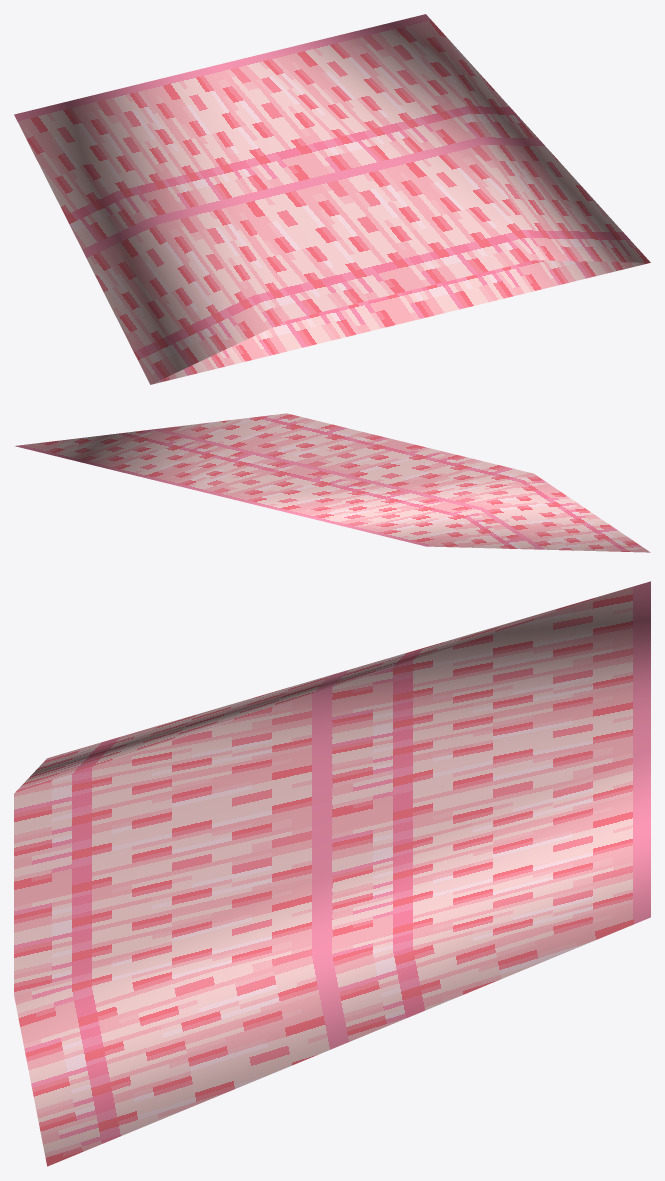
File: 2310skirt00_r.gltf
3 views of the same model, one above another, from view 1: azimuth 30°, elevation 25°; view 2: azimuth 150°, elevation 25°; view 3: azimuth 270°, elevation 25° (orthographic). The views are drawn at different scales.
Visible parts, largest first — view 1: 2310skirt00_r; view 2: 2310skirt00_r; view 3: 2310skirt00_r.
Boxes of the visible parts, left/top/right/bottom form: 2310skirt00_r: left=14, top=14, right=650, bottom=384; 2310skirt00_r: left=15, top=413, right=650, bottom=552; 2310skirt00_r: left=14, top=581, right=650, bottom=1166.
Size of the model in its own units: 0.9868 by 0.24 by 0.6504.
1 material, 1 textured.
